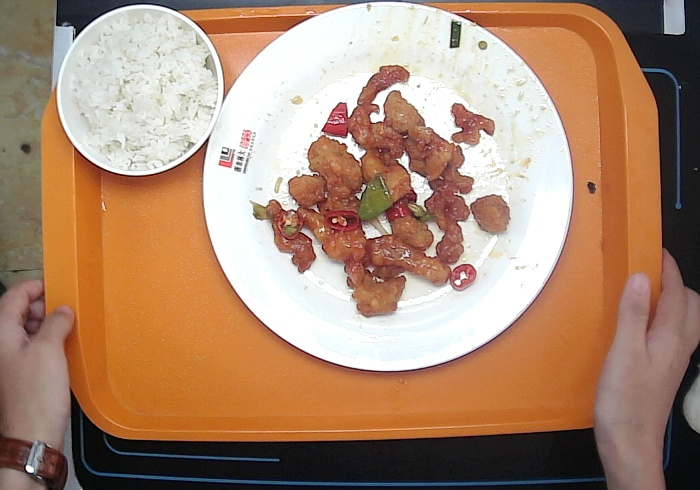ZNLD-Da_Yuan_Pan: (198, 1, 577, 375)
